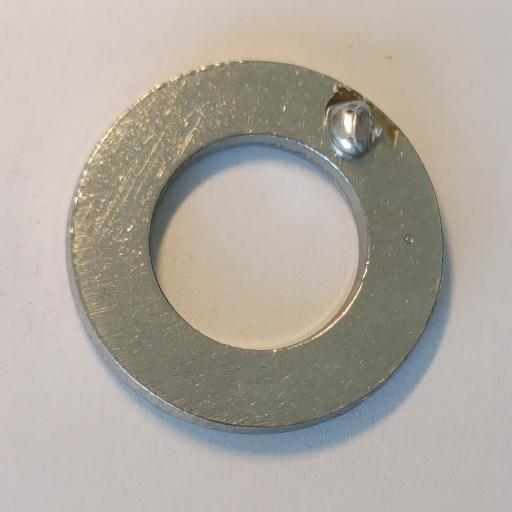excess_material: (322, 101, 383, 160)
